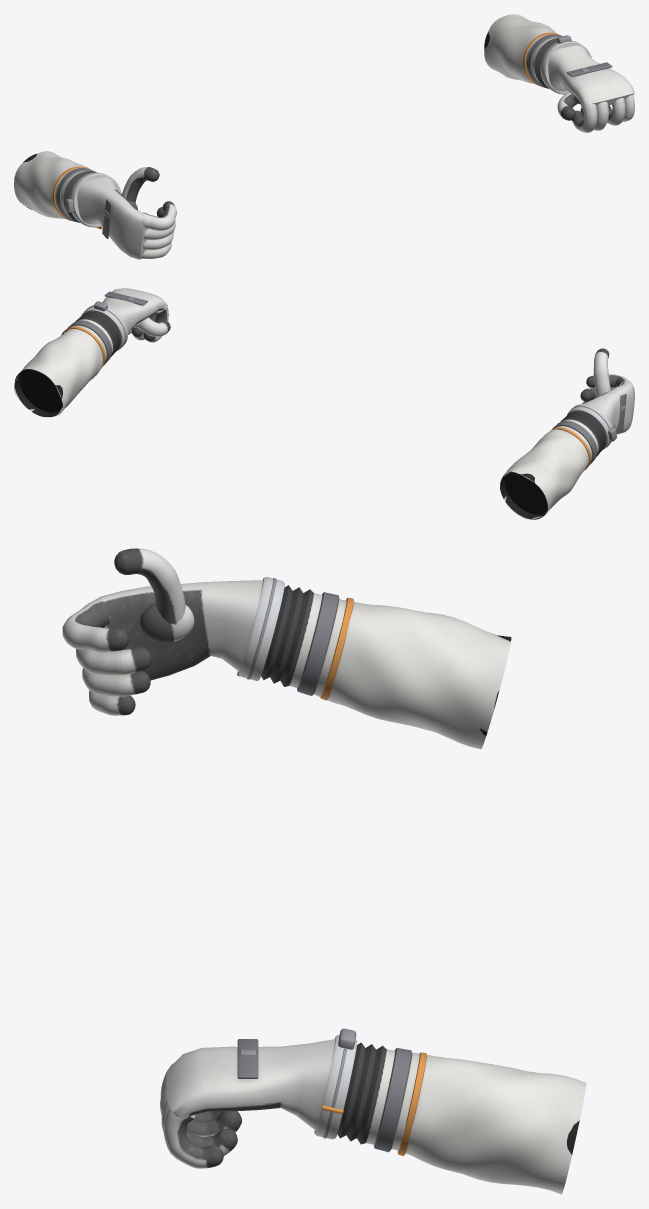
Rendered from pilot_gloves.fbx.
The picture shows the model from 3 angles, top to bottom: view 1: azimuth 30°, elevation 25°; view 2: azimuth 150°, elevation 25°; view 3: azimuth 270°, elevation 25°; orthographic projection. The views are drawn at different scales.
Visible parts, largest first — view 1: glove_R, glove_L; view 2: glove_R, glove_L; view 3: glove_R, glove_L.
Part boxes in pixels (bbox=[...]): glove_R: bbox=[14, 151, 176, 259]; glove_L: bbox=[484, 14, 634, 132]; glove_R: bbox=[500, 348, 634, 519]; glove_L: bbox=[14, 288, 170, 417]; glove_R: bbox=[62, 548, 511, 749]; glove_L: bbox=[160, 1028, 586, 1194].
Bounding box in the file's own units: 1.12 × 0.2092 × 0.4837.
Materials: 1 (1 with a texture image).
